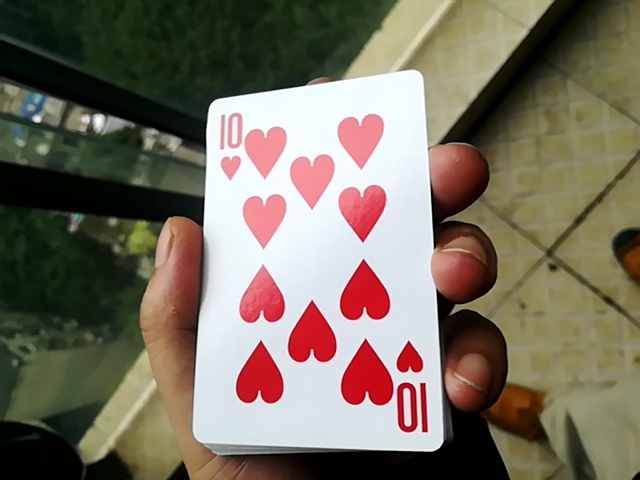hx 10: (179, 62, 437, 442)
